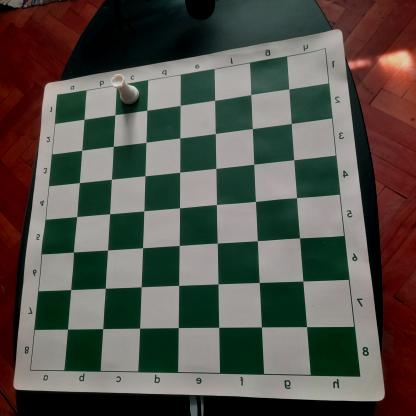white-rook: (110, 73, 140, 107)
